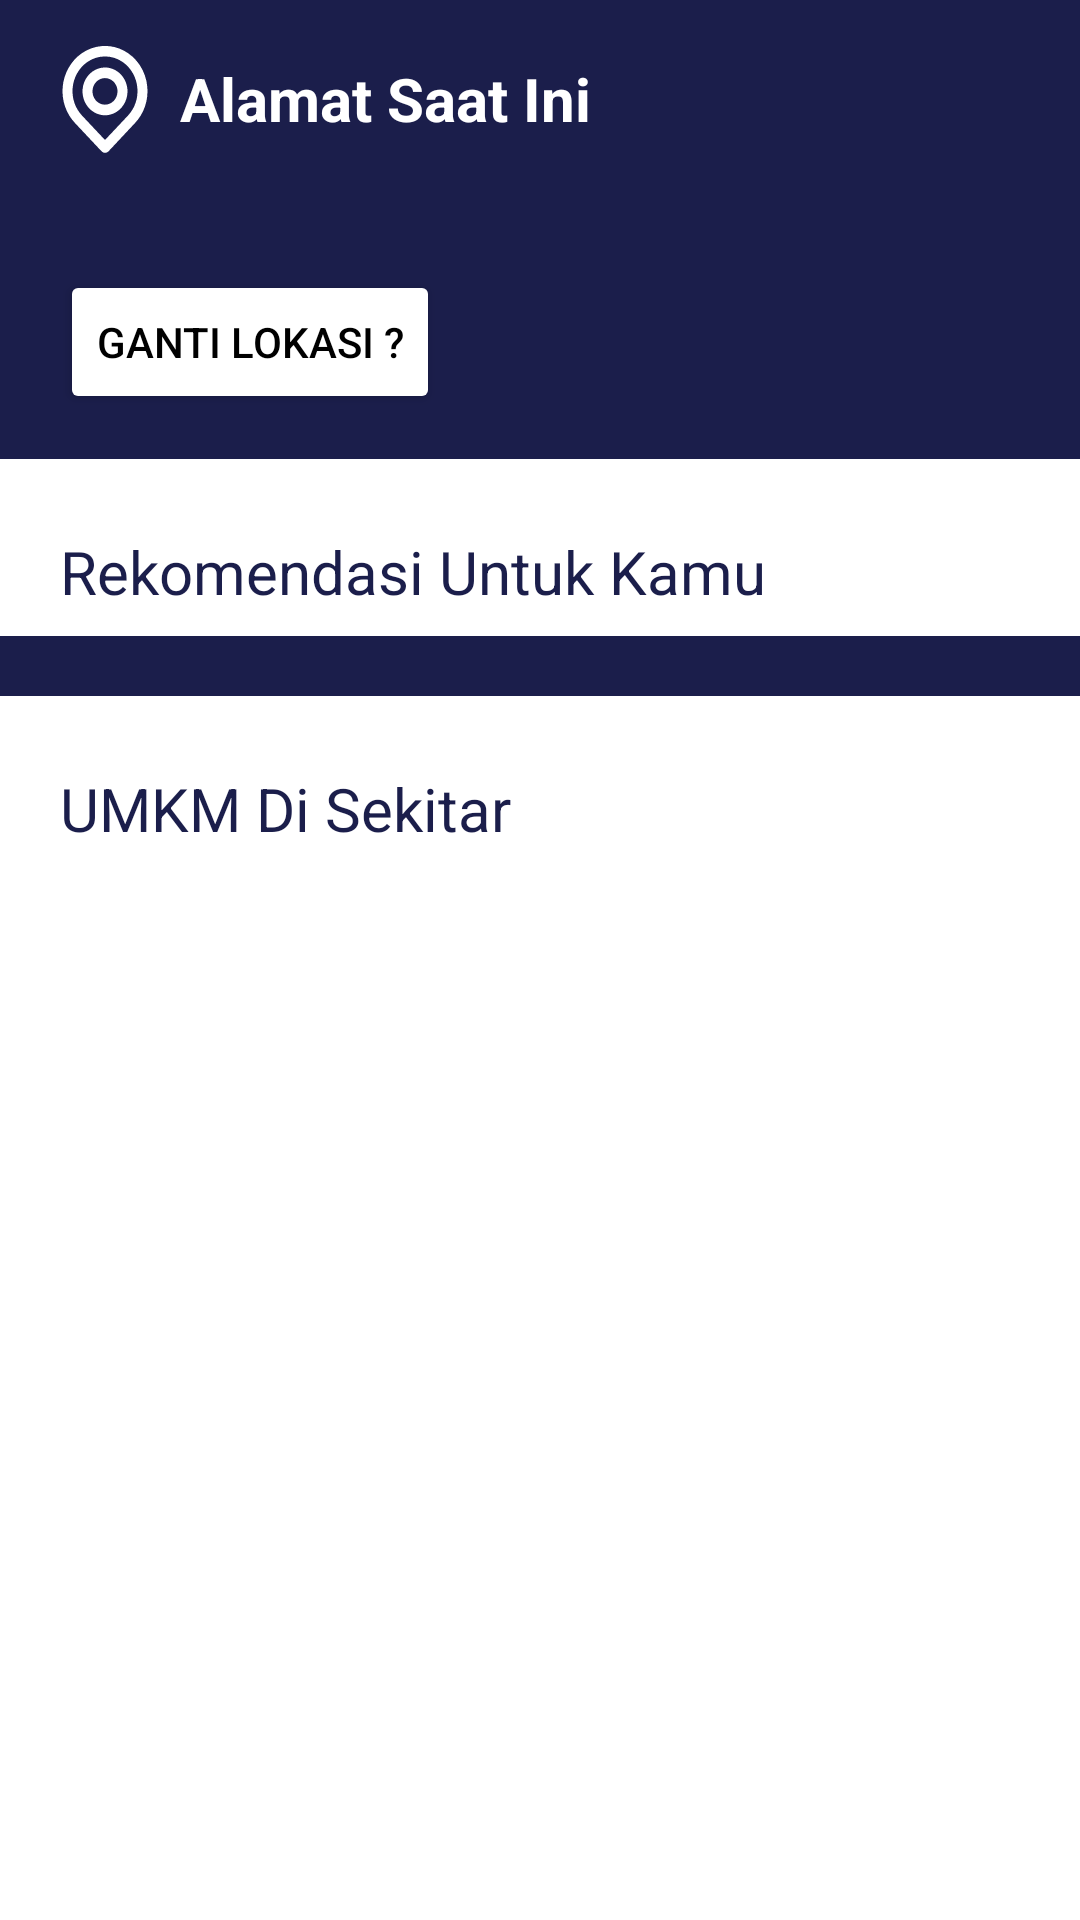

Icon bounding boxes for this 1080*1920 phone screenshot, format (x1, y1, x2, y2):
location: (62, 46, 148, 153)
